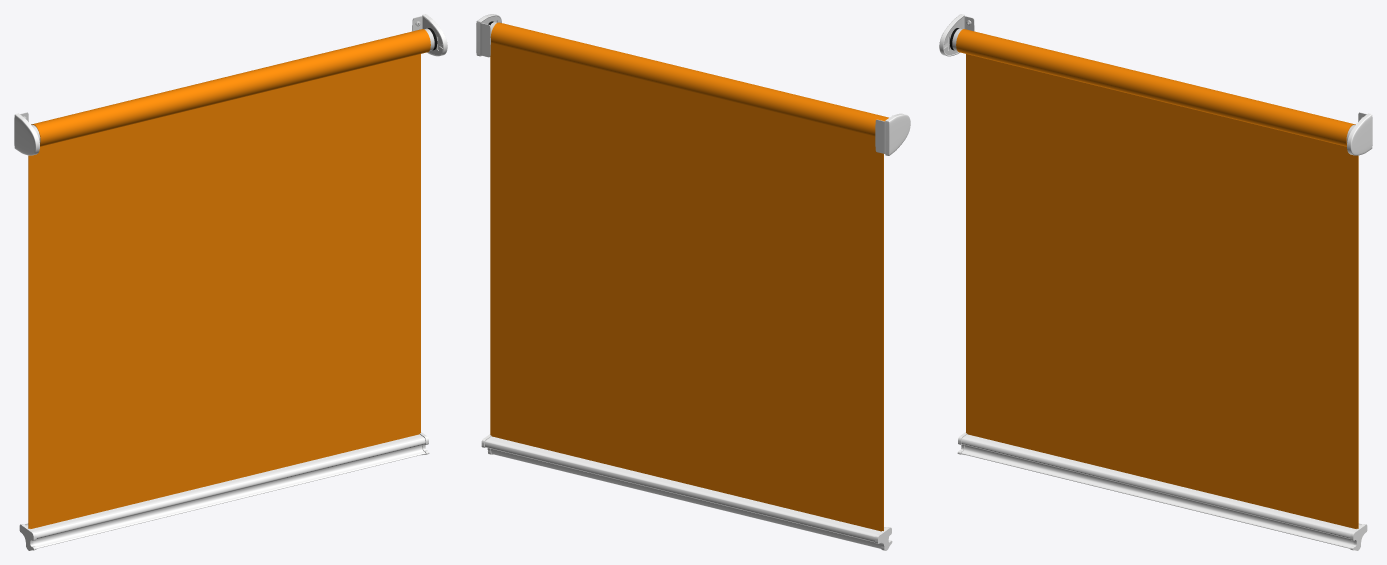
The model's file is Federzug-Softrollo.glb.
3 views of the same model, side by side, from view 1: azimuth 30°, elevation 25°; view 2: azimuth 150°, elevation 25°; view 3: azimuth 330°, elevation 25° (orthographic).
Parts seen in each view (by area): view 1: Stoff.001, Stoffende.001, BezierCurve.001, Cube.008; view 2: Stoff.001, Stoffende.001, BezierCurve.001, Cube.008; view 3: Stoff.001, Stoffende.001, BezierCurve.001, Cube.001.
Part boxes in pixels (box(x1,y1,x2,y2)): Stoff.001: box(28, 54, 420, 528); Stoffende.001: box(31, 29, 430, 146); BezierCurve.001: box(25, 434, 425, 548); Cube.008: box(14, 113, 39, 155); Stoff.001: box(490, 42, 883, 531); Stoffende.001: box(490, 22, 888, 136); BezierCurve.001: box(485, 436, 886, 548); Cube.008: box(885, 113, 910, 155); Stoff.001: box(966, 54, 1358, 528); Stoffende.001: box(956, 29, 1355, 146); BezierCurve.001: box(961, 434, 1361, 548); Cube.001: box(1347, 113, 1372, 155).
Size of the model in its own units: 1.25 by 1.26 by 0.129.
5 materials, 1 textured.
